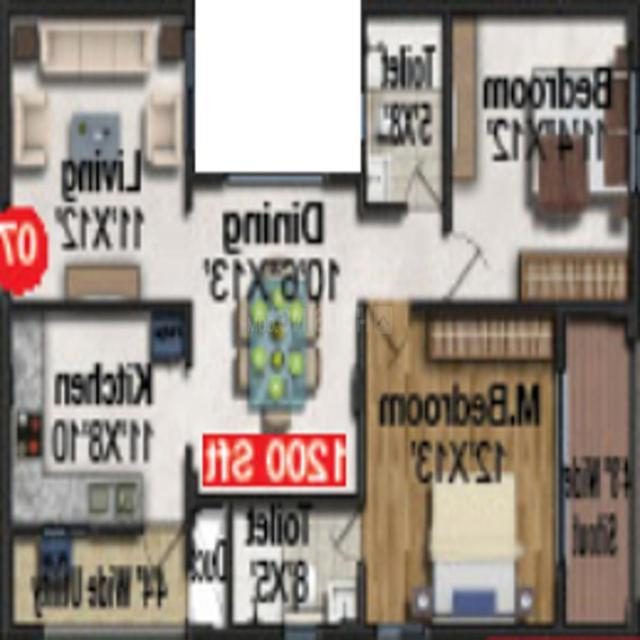Bedroom: (442, 0, 640, 319)
Bedroom with Toilet: (357, 300, 564, 638)
Dining: (229, 245, 333, 430)
Kitchen: (0, 321, 180, 545)
Living: (1, 2, 198, 312)
Toilet: (361, 2, 452, 216), (225, 498, 362, 638)
Utility: (1, 525, 190, 640)
